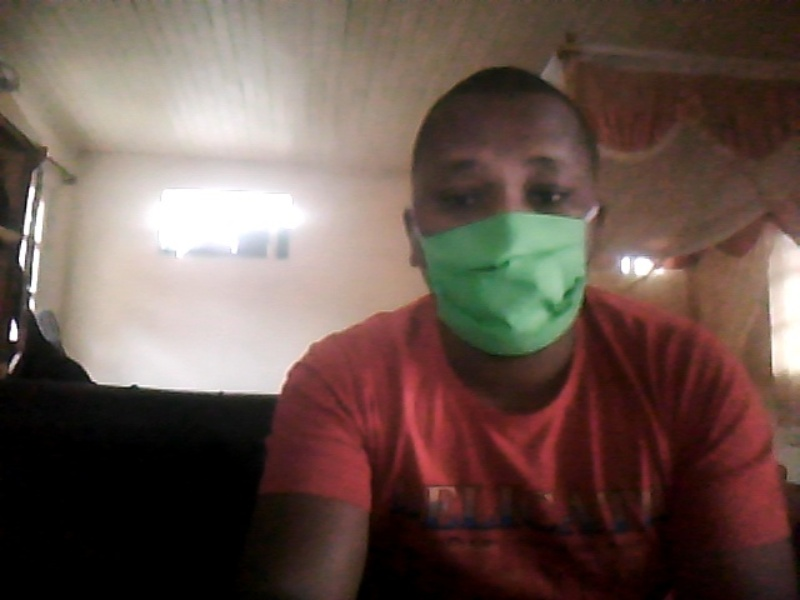ManaoArotava: (386, 62, 625, 361)
